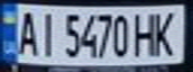0: (112, 10, 133, 58)
4: (78, 10, 100, 58)
5: (60, 9, 81, 58)
7: (96, 10, 115, 58)
A: (12, 7, 42, 57)
H: (133, 9, 160, 57)
I: (33, 8, 60, 57)
K: (151, 7, 184, 56)
